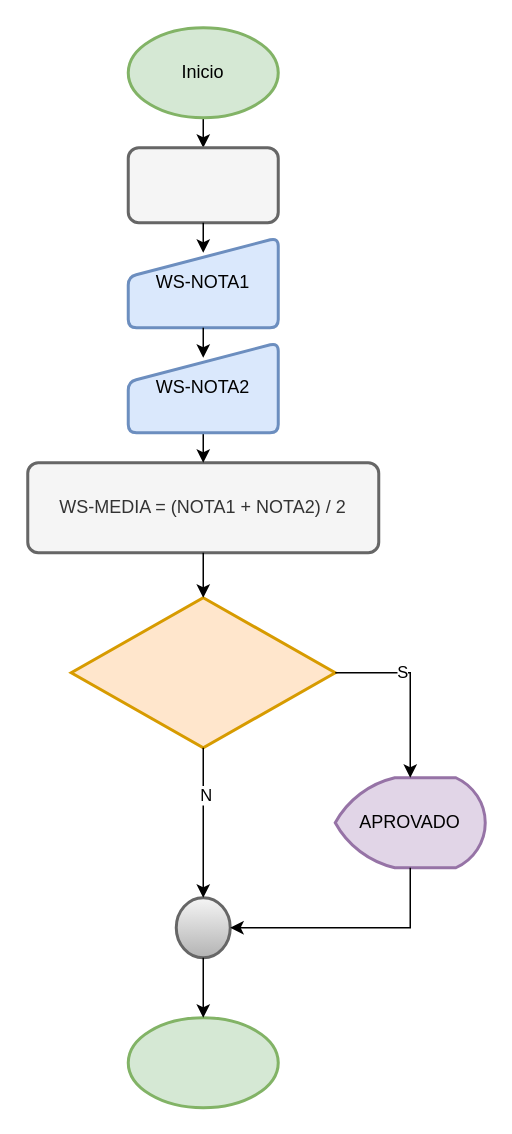
The diagram is 512 pixels wide and 1134 high, and some of its shapes have lost their labels. Here are the shapes that lost their labels. From the top down, the centre of each, then its label:
pixel 202 185: WS-NOTA1 WS-NOTA2 WS-MEDIA
pixel 202 672: WS-MEDIA >= 7
pixel 202 1062: Fim
